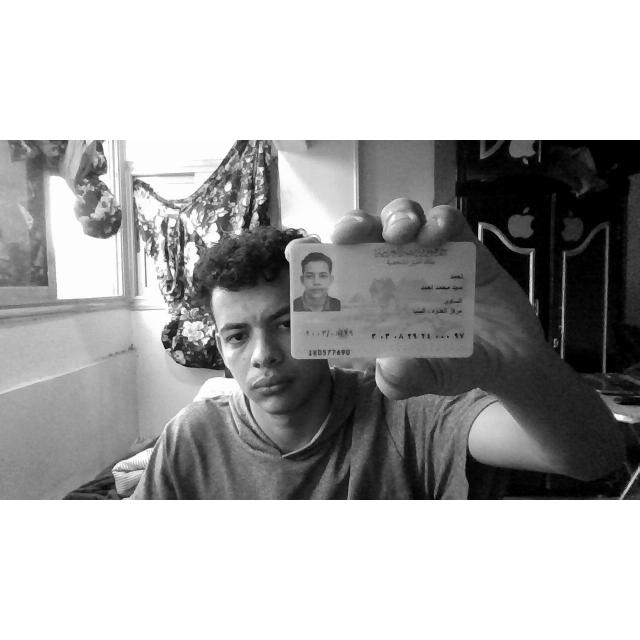front: (290, 243, 476, 360)
